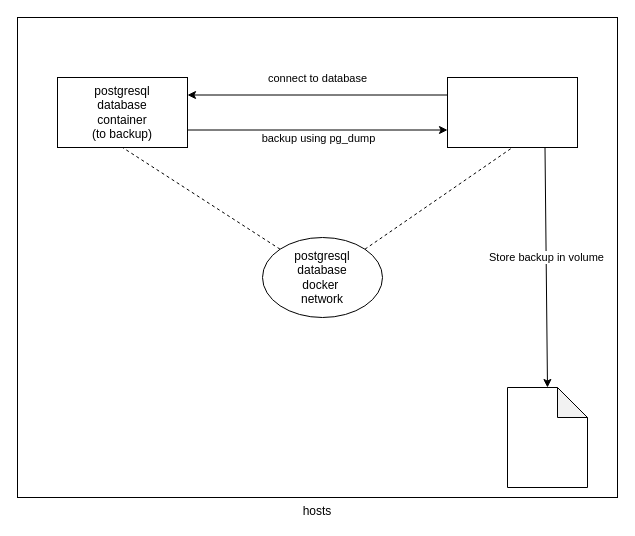
The diagram is 635 pixels wide and 536 high, and some of its shapes have lost their labels. The centre of each missing label's shape, as x and y in pixels:
"postgresql backup container (that backup database)" goes at [512,112].
"postgresql backup volume" goes at [547,437].
